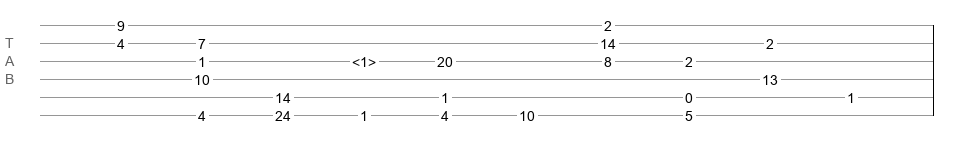0: (685, 90, 693, 100)
1: (198, 54, 206, 64), (360, 108, 368, 118), (441, 90, 449, 100), (847, 90, 855, 100)
10: (194, 72, 210, 82), (519, 108, 535, 118)
13: (762, 72, 778, 82)
14: (275, 90, 291, 100), (600, 36, 616, 46)
2: (604, 18, 612, 28), (685, 54, 693, 64), (766, 36, 774, 46)
20: (437, 54, 453, 64)
24: (275, 108, 291, 118)
4: (117, 36, 125, 46), (198, 108, 206, 118), (441, 108, 449, 118)
5: (685, 108, 693, 118)
7: (198, 36, 206, 46)
8: (604, 54, 612, 64)
9: (117, 18, 125, 28)
harmonic: (352, 54, 376, 64)
